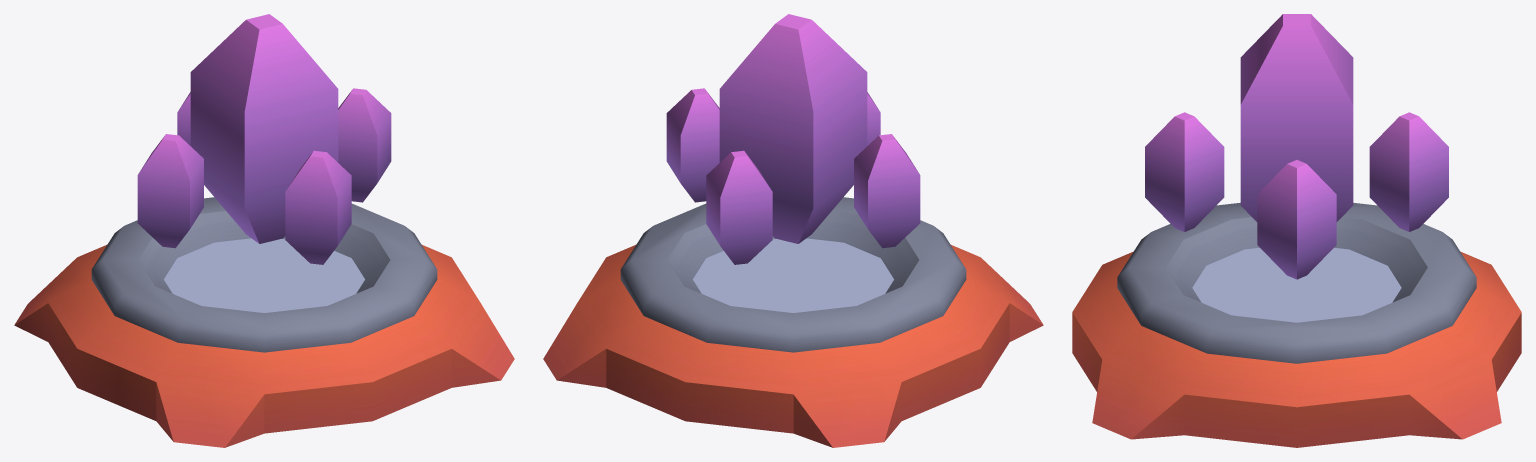
Rendered from p-tower-tower-round-crystals.glb.
3 views of the same model, side by side, from view 1: azimuth 30°, elevation 25°; view 2: azimuth 150°, elevation 25°; view 3: azimuth 270°, elevation 25° (orthographic). The views are drawn at different scales.
Visible parts, largest first — view 1: tower-round-crystals, crystal, crystal-small (×4); view 2: tower-round-crystals, crystal, crystal-small (×4); view 3: tower-round-crystals, crystal-small (×3), crystal.
Part boxes in pixels (x1,y1,x2,y2): tower-round-crystals: (14,197,514,447); crystal: (190,14,338,243); crystal-small (×4): (137,88,391,264); tower-round-crystals: (543,197,1043,447); crystal: (719,14,867,243); crystal-small (×4): (666,88,920,264); tower-round-crystals: (1072,202,1521,447); crystal-small (×3): (1145,112,1448,279); crystal: (1240,14,1353,221).
Size of the model in its own units: 1 by 0.8175 by 1.
1 material, 1 textured.
